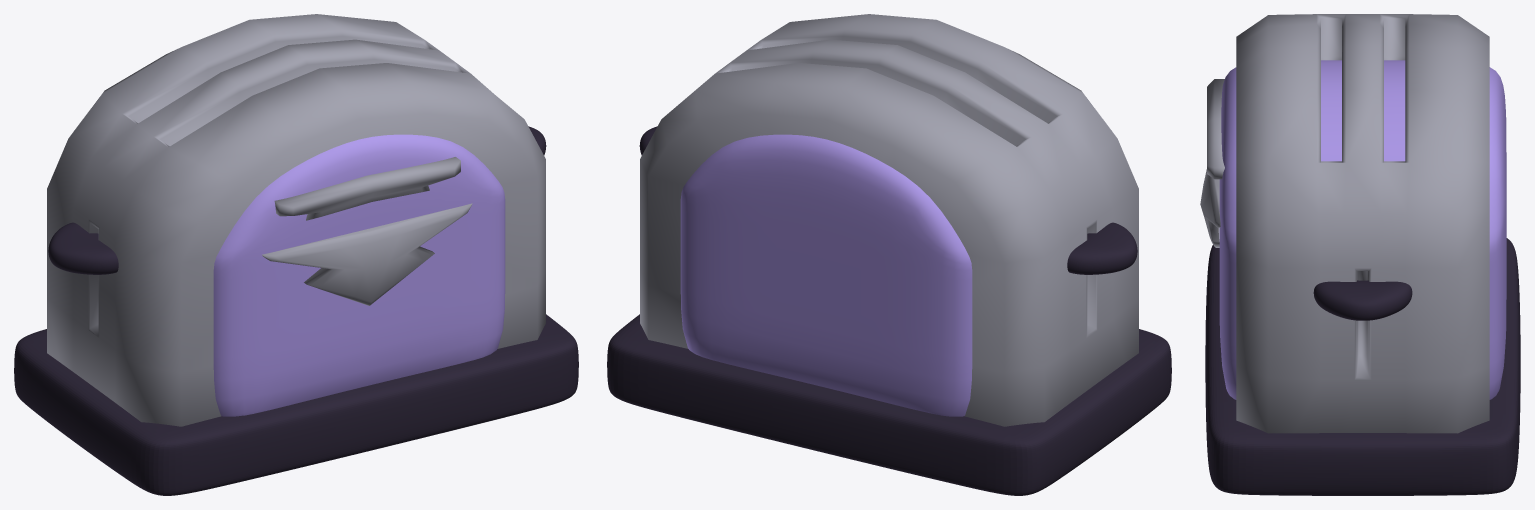
File: grillepain_highpoly_placeholder.fbx
The picture shows the model from 3 angles, left to right: view 1: azimuth 30°, elevation 25°; view 2: azimuth 150°, elevation 25°; view 3: azimuth 270°, elevation 25°; orthographic projection.
Visible parts, largest first — view 1: grille pain.026; view 2: grille pain.026; view 3: grille pain.026.
Part boxes in pixels (<box>): grille pain.026: <box>14,14,578,495</box>; grille pain.026: <box>607,14,1171,495</box>; grille pain.026: <box>1200,14,1520,495</box>.
Size of the model in its own units: 94.62 by 64.67 by 53.38.
